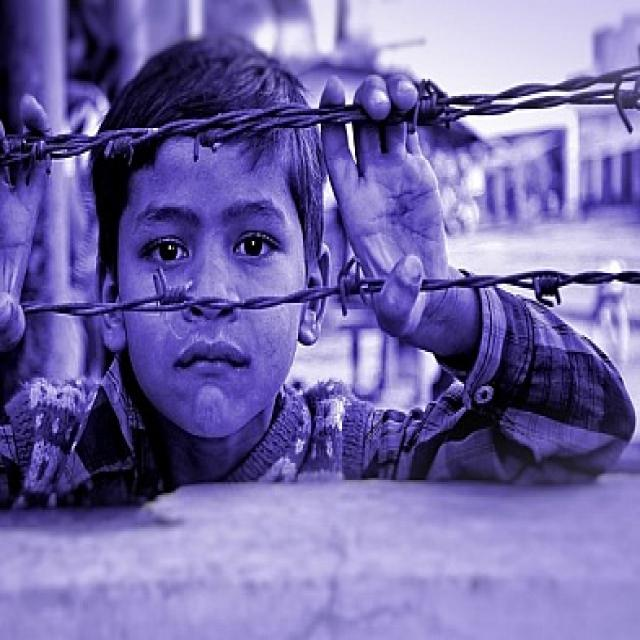Eyes: (134, 220, 282, 271)
